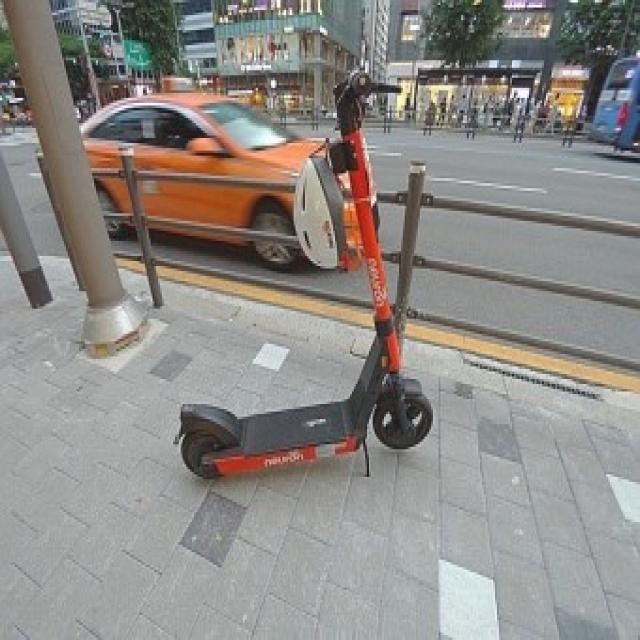kick-board: (178, 72, 430, 477)
lane: (406, 320, 640, 393), (159, 264, 370, 327)
road: (365, 123, 640, 223), (411, 268, 640, 361), (419, 208, 640, 294), (7, 147, 58, 251), (280, 268, 369, 297)
sidewalk: (0, 256, 640, 638)
